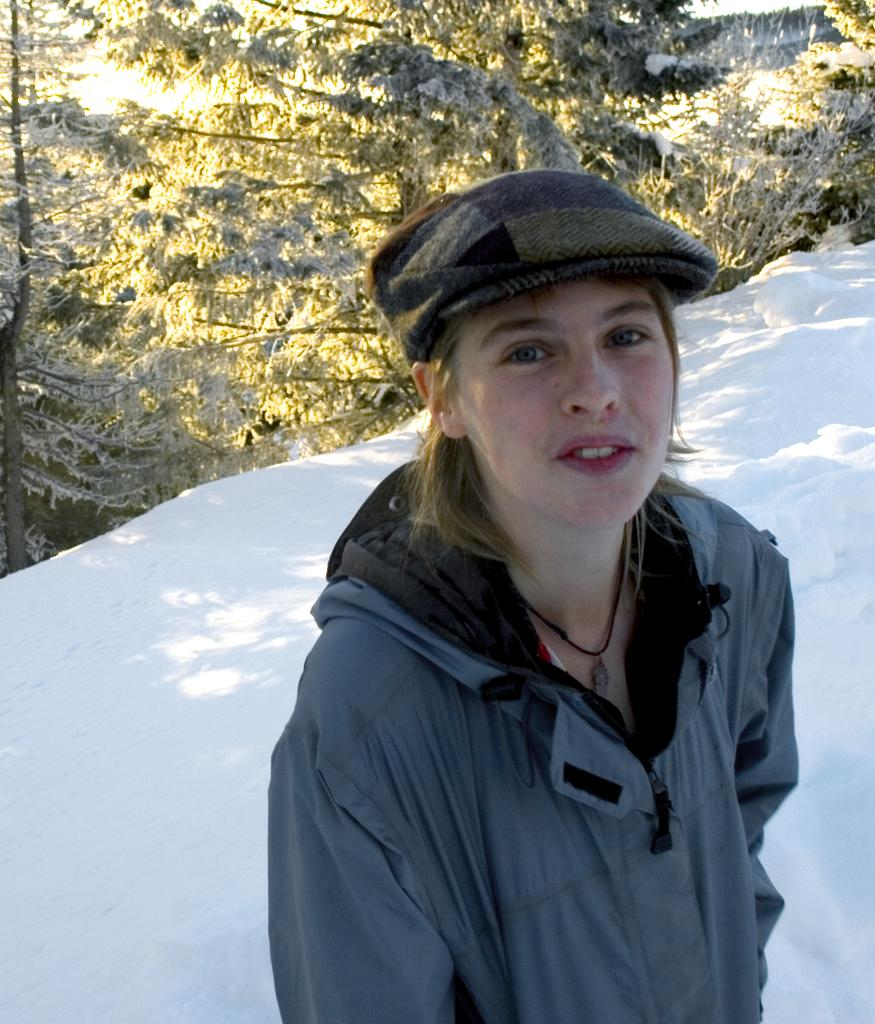Hat: (368, 166, 721, 359)
